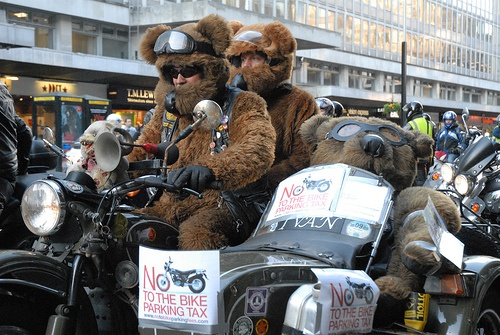non-vehicle: (140, 164, 500, 335), (0, 99, 223, 326), (435, 107, 499, 249), (427, 150, 449, 176)
